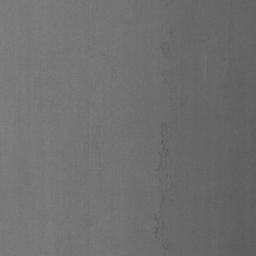Silk spot: (156, 123, 168, 171)
